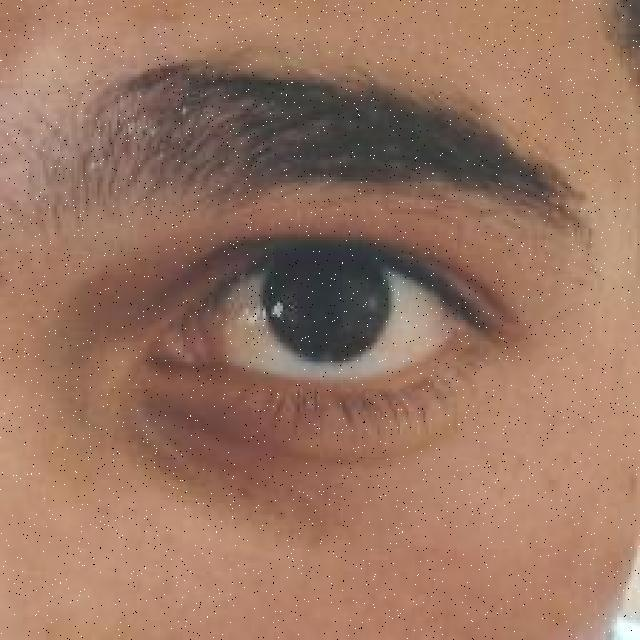Normal: (74, 119, 586, 508)
